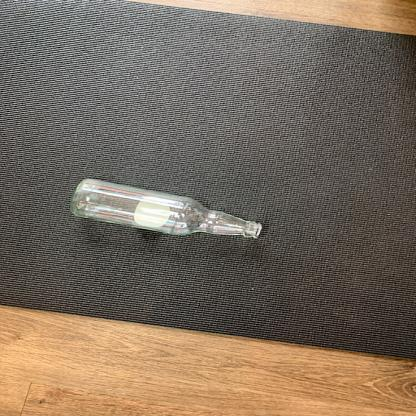trash: (68, 177, 266, 244)
